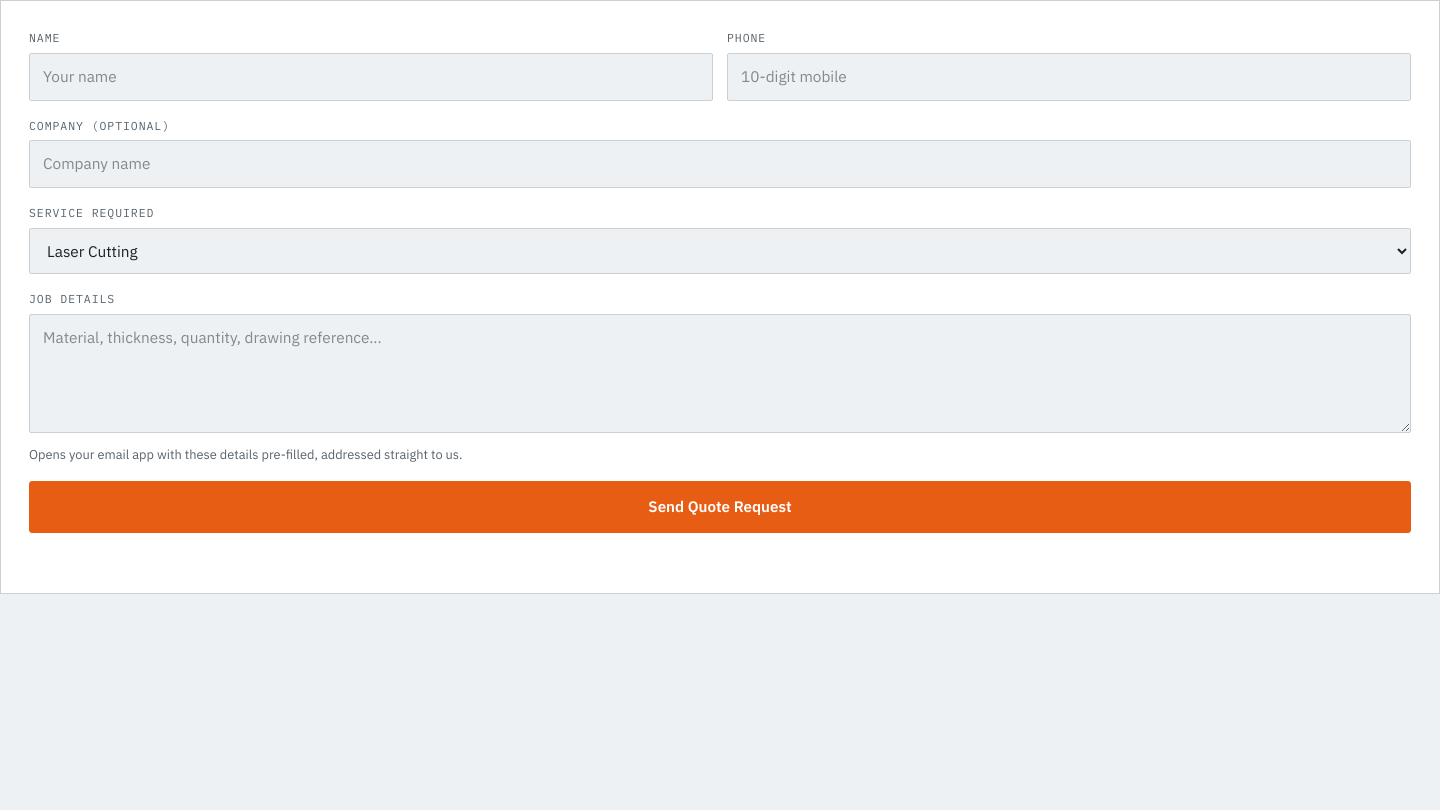
Test: QuoteForm › shows validation errors and does not open mail on invalid input
This screenshot has width=1440, height=810.
Click the button "Send Quote Request" at (720, 507), box [29, 481, 1411, 533]
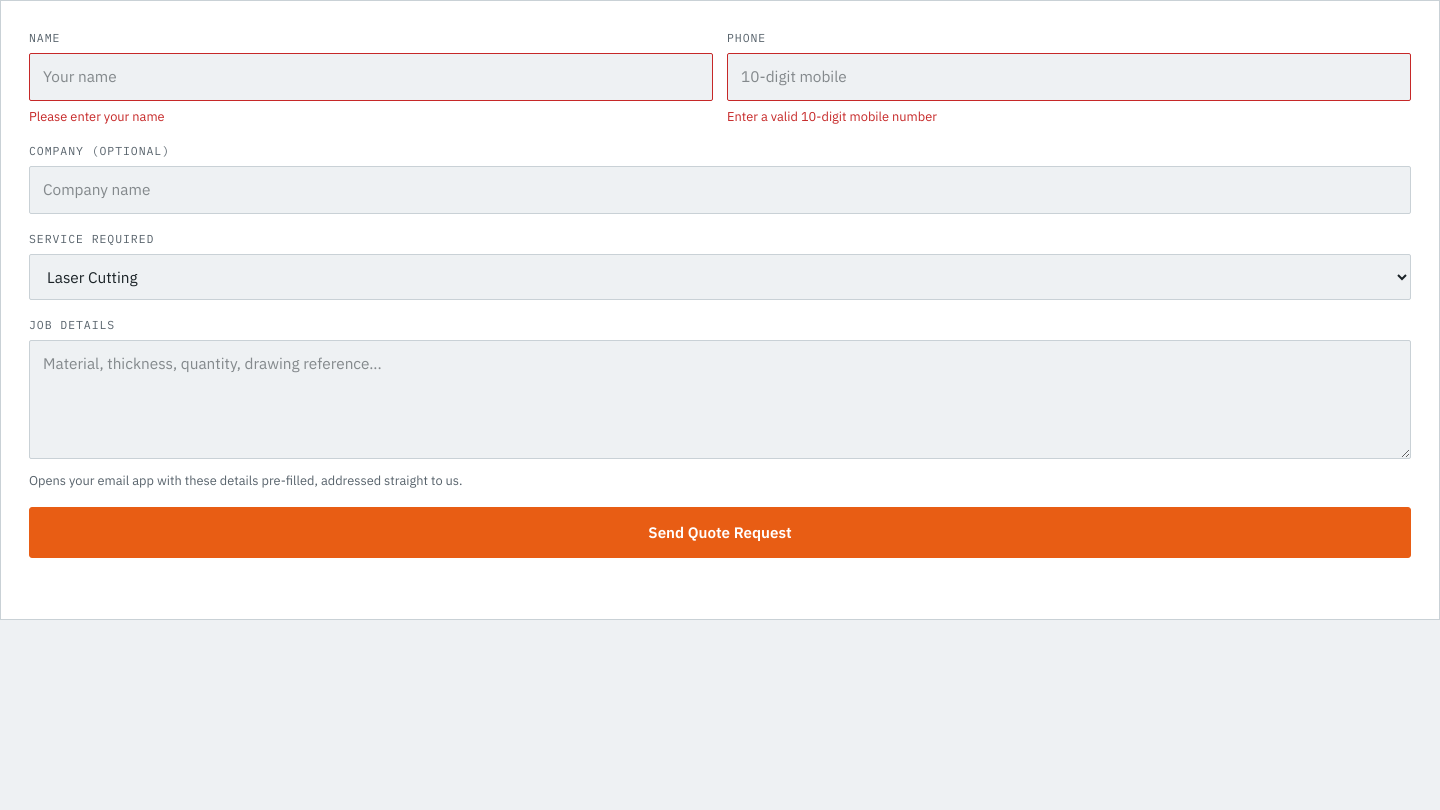
Result: the text "Please enter your name" is shown at [29, 108, 165, 125]
Result: the text "Enter a valid 10-digit mobile number" is shown at [727, 108, 937, 125]
